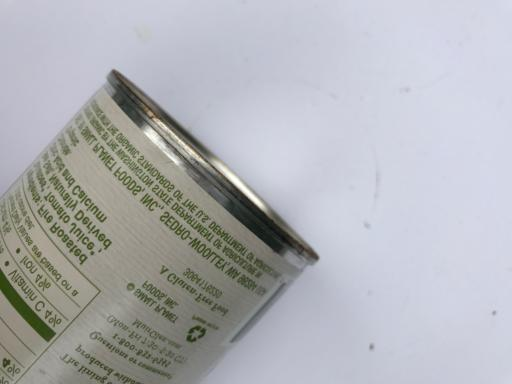metal: (0, 68, 319, 381)
